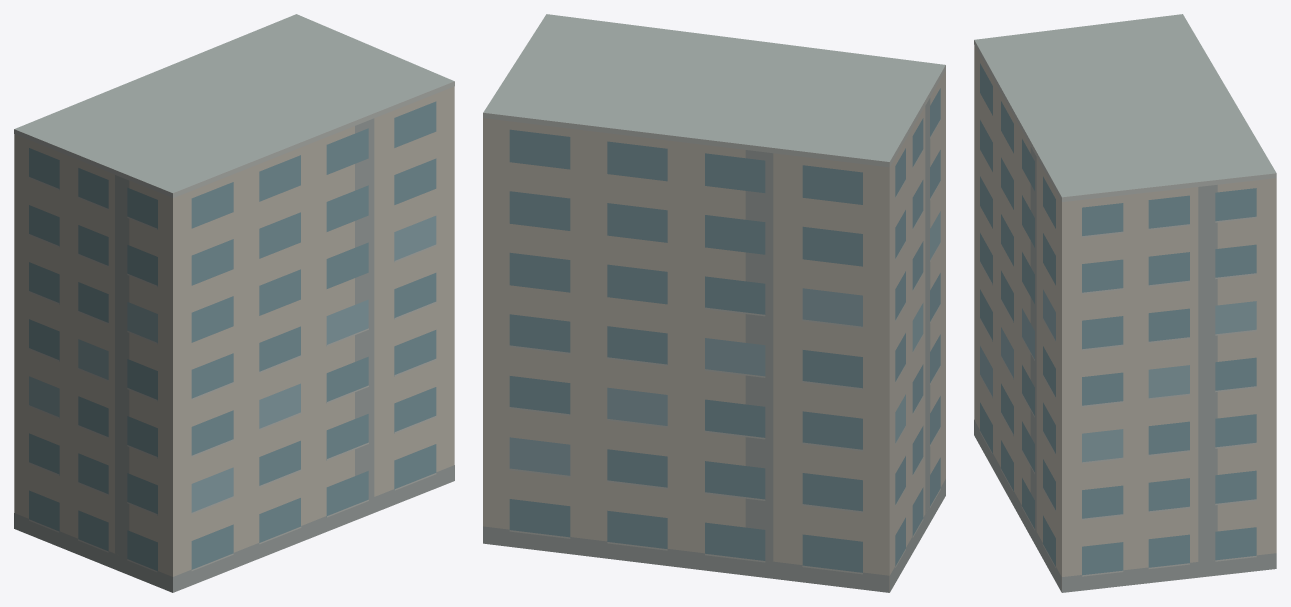
Rendered from survey-upis-33023403.glb.
The picture shows the model from 3 angles, left to right: view 1: azimuth 30°, elevation 25°; view 2: azimuth 150°, elevation 25°; view 3: azimuth 270°, elevation 25°; orthographic projection. The views are drawn at different scales.
Visible parts, largest first — view 1: survey-upis-33023403.tmp; view 2: survey-upis-33023403.tmp; view 3: survey-upis-33023403.tmp.
Boxes of the visible parts, bbox=[...] form: survey-upis-33023403.tmp: bbox=[14, 14, 454, 592]; survey-upis-33023403.tmp: bbox=[483, 14, 945, 592]; survey-upis-33023403.tmp: bbox=[974, 14, 1276, 592].
Bounding box in the file's own units: 19.69 × 19.8 × 13.73.
